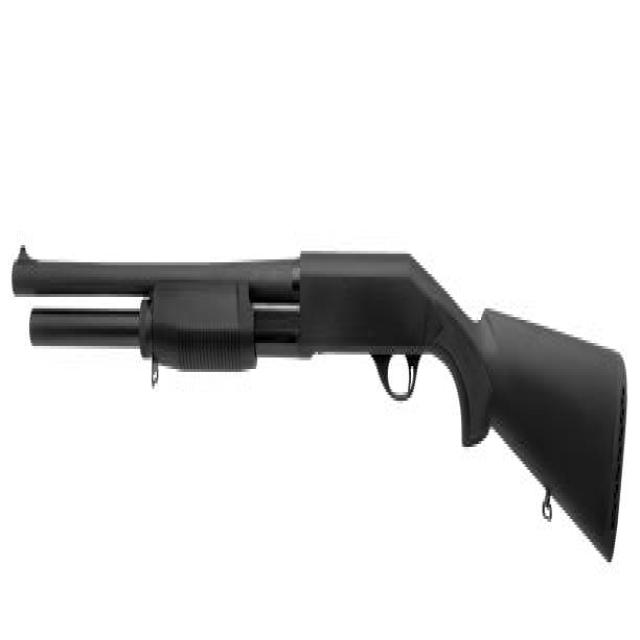rifle: (7, 238, 634, 570)
